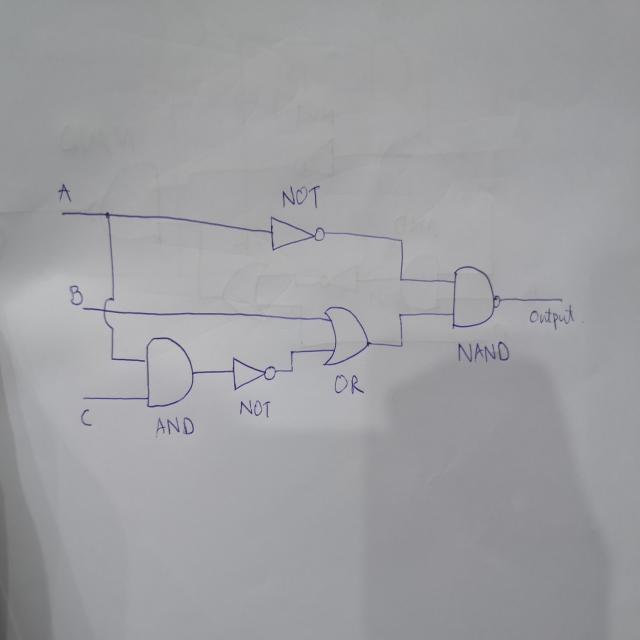crossover: (100, 291, 116, 330)
junction: (102, 208, 112, 221), (397, 235, 405, 246), (108, 352, 116, 362), (396, 310, 404, 320), (397, 340, 405, 349), (397, 274, 404, 284), (288, 366, 294, 374), (288, 348, 294, 355)
terminal: (79, 301, 86, 312), (557, 294, 563, 304), (59, 209, 66, 217), (80, 393, 86, 401)
text: (457, 338, 511, 364), (281, 180, 322, 212), (529, 302, 575, 330), (155, 413, 195, 438), (332, 371, 364, 398), (238, 395, 272, 420), (68, 283, 84, 306), (57, 181, 72, 203), (79, 405, 93, 427)
